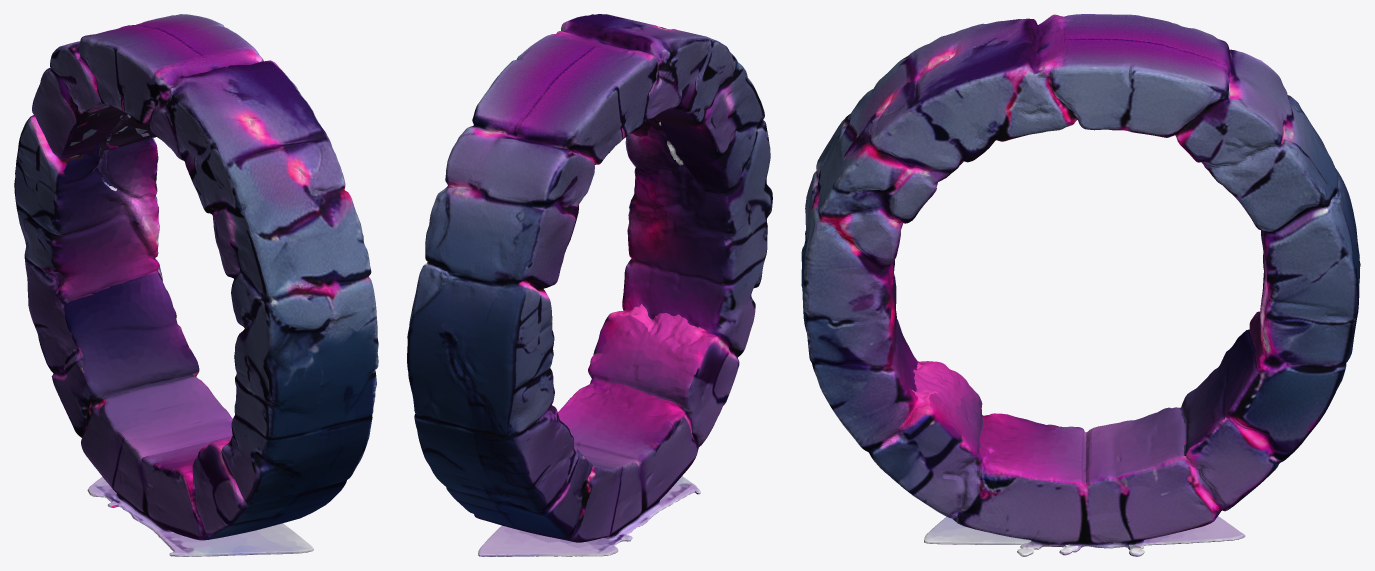
File: ring-fragment-east-generated-2026-04-20T00-01-43-946Z.glb
3 views of the same model, side by side, from view 1: azimuth 30°, elevation 25°; view 2: azimuth 150°, elevation 25°; view 3: azimuth 270°, elevation 25° (orthographic). The views are drawn at different scales.
Parts seen in each view (by area): view 1: temp_mesh.ply; view 2: temp_mesh.ply; view 3: temp_mesh.ply.
Boxes of the visible parts, x1=… form: temp_mesh.ply: x1=14, y1=14, x2=378, y2=556; temp_mesh.ply: x1=407, y1=14, x2=772, y2=556; temp_mesh.ply: x1=801, y1=14, x2=1360, y2=556.
Bounding box in the file's own units: 0.5942 × 1.89 × 1.97.
1 material, 1 textured.
